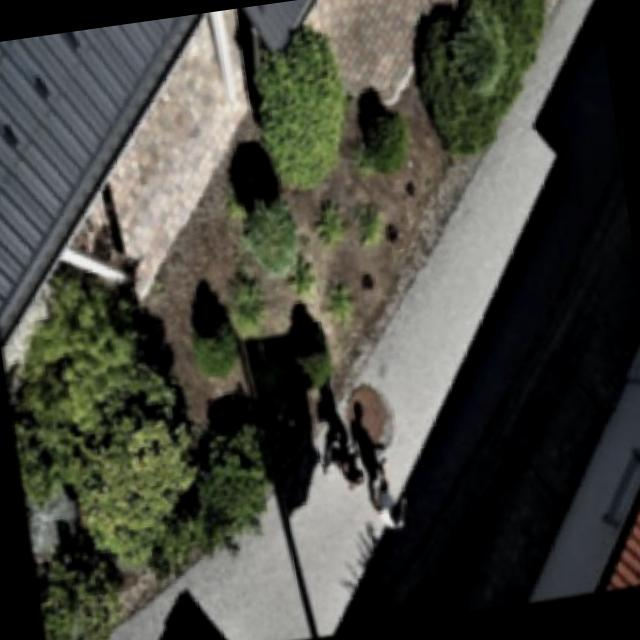Person: (364, 454, 413, 548), (316, 436, 370, 502)
